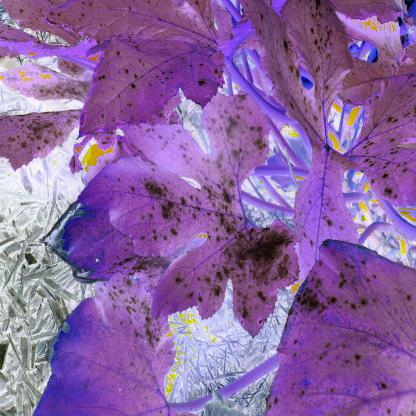Squash Powdery mildew leaf: (111, 89, 299, 335), (0, 0, 229, 135), (265, 234, 402, 416), (77, 271, 169, 416), (344, 70, 416, 192), (279, 0, 357, 109)
